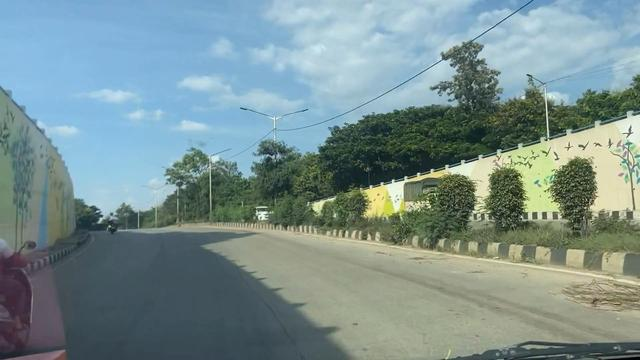RoadDamages: (234, 264, 313, 360)
